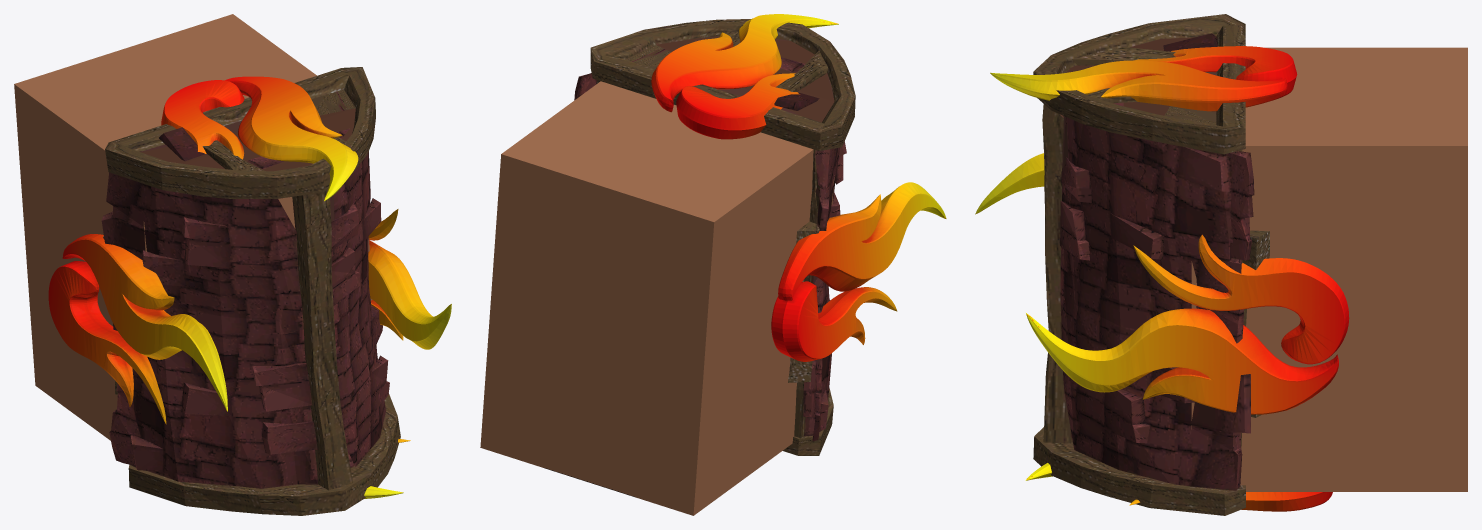
File: fire_Barn.obj
The picture shows the model from 3 angles, left to right: view 1: azimuth 30°, elevation 25°; view 2: azimuth 150°, elevation 25°; view 3: azimuth 270°, elevation 25°; orthographic projection. The views are drawn at different scales.
Parts seen in each view (by area): view 1: Object.10, Object.3, Object.16, Object.1, Object.8, Object.2, Object.6, Object.9, Object.15; view 2: Object.3, Object.16, Object.1, Object.8, Object.2, Object.9, Object.10, Object.15; view 3: Object.3, Object.10, Object.16, Object.6, Object.7, Object.8, Object.9, Object.5, Object.1, Object.15.
Boxes of the visible parts, x1,y1,x2,y2 form: Object.10: (101, 151, 389, 488); Object.3: (14, 14, 376, 440); Object.16: (103, 67, 400, 515); Object.1: (62, 234, 227, 411); Object.8: (225, 76, 358, 201); Object.2: (48, 261, 166, 424); Object.6: (368, 240, 451, 349); Object.9: (161, 80, 244, 159); Object.15: (159, 127, 204, 161); Object.3: (480, 81, 834, 515); Object.16: (590, 19, 855, 455); Object.1: (778, 182, 946, 300); Object.8: (651, 14, 838, 112); Object.2: (771, 281, 897, 361); Object.9: (676, 73, 799, 139); Object.10: (574, 73, 846, 441); Object.15: (774, 92, 819, 110); Object.3: (1191, 47, 1467, 491); Object.10: (1060, 116, 1254, 490); Object.16: (1033, 14, 1269, 515); Object.6: (1026, 308, 1338, 414); Object.7: (1133, 234, 1349, 364); Object.8: (990, 60, 1287, 111); Object.9: (1135, 46, 1297, 95); Object.5: (1129, 492, 1332, 511); Object.1: (975, 153, 1044, 214); Object.15: (1163, 33, 1217, 51).
Bounding box in the file's own units: 1126 × 1366 × 1514.
4 materials, 4 textured.
